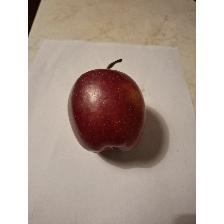Apfel: (68, 52, 146, 156)
